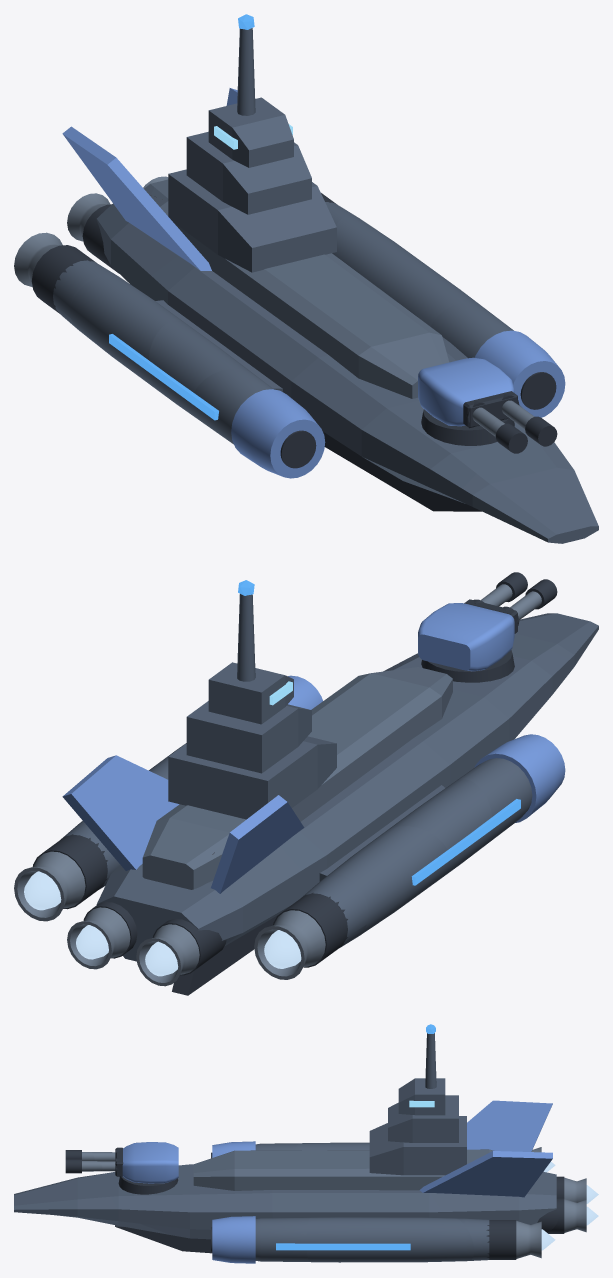
File: horizon_cruiser_wreck.glb
3 renders of one model, top to bottom at view 1: azimuth 30°, elevation 25°; view 2: azimuth 150°, elevation 25°; view 3: azimuth 270°, elevation 25°, orthographic. The views are drawn at different scales.
Parts seen in each view (by area): view 1: horizon_cruiser_wreck_08, horizon_cruiser_wreck_02, horizon_cruiser_wreck_12, horizon_cruiser_wreck_13, horizon_cruiser_wreck_01, horizon_cruiser_wreck_05, horizon_cruiser_wreck_03, horizon_cruiser_wreck_11, horizon_cruiser_wreck_04, horizon_cruiser_wreck_07, horizon_cruiser_wreck_06, horizon_cruiser_wreck_10 (+2 smaller); view 2: horizon_cruiser_wreck_00, horizon_cruiser_wreck_01, horizon_cruiser_wreck_10, horizon_cruiser_wreck_02, horizon_cruiser_wreck_08, horizon_cruiser_wreck_13, horizon_cruiser_wreck_12, horizon_cruiser_wreck_11, horizon_cruiser_wreck_03, horizon_cruiser_wreck_06, horizon_cruiser_wreck_05, horizon_cruiser_wreck_04; view 3: horizon_cruiser_wreck_00, horizon_cruiser_wreck_07, horizon_cruiser_wreck_04, horizon_cruiser_wreck_08, horizon_cruiser_wreck_02, horizon_cruiser_wreck_12, horizon_cruiser_wreck_05, horizon_cruiser_wreck_01, horizon_cruiser_wreck_10, horizon_cruiser_wreck_06, horizon_cruiser_wreck_03, horizon_cruiser_wreck_13 (+1 smaller).
Part boxes in pixels (box(x1,y1,x2,y2)): horizon_cruiser_wreck_08: box(163, 130, 379, 301); horizon_cruiser_wreck_02: box(349, 357, 534, 511); horizon_cruiser_wreck_12: box(288, 287, 448, 503); horizon_cruiser_wreck_13: box(145, 291, 329, 419); horizon_cruiser_wreck_01: box(14, 126, 183, 329); horizon_cruiser_wreck_05: box(461, 409, 598, 543); horizon_cruiser_wreck_03: box(188, 368, 325, 478); horizon_cruiser_wreck_11: box(70, 226, 212, 390); horizon_cruiser_wreck_04: box(430, 303, 565, 417); horizon_cruiser_wreck_07: box(332, 214, 483, 326); horizon_cruiser_wreck_06: box(197, 14, 292, 134); horizon_cruiser_wreck_10: box(67, 176, 168, 273); horizon_cruiser_wreck_00: box(14, 728, 252, 977); horizon_cruiser_wreck_01: box(210, 795, 368, 979); horizon_cruiser_wreck_10: box(67, 857, 235, 995); horizon_cruiser_wreck_02: box(401, 595, 568, 746); horizon_cruiser_wreck_08: box(192, 676, 354, 829); horizon_cruiser_wreck_13: box(341, 726, 495, 876); horizon_cruiser_wreck_12: box(311, 667, 499, 775); horizon_cruiser_wreck_11: box(265, 817, 452, 935); horizon_cruiser_wreck_03: box(433, 734, 565, 846); horizon_cruiser_wreck_06: box(186, 580, 286, 732); horizon_cruiser_wreck_05: box(486, 572, 598, 674); horizon_cruiser_wreck_04: box(288, 660, 404, 709); horizon_cruiser_wreck_00: box(425, 1126, 558, 1260); horizon_cruiser_wreck_07: box(306, 1182, 473, 1262); horizon_cruiser_wreck_04: box(139, 1188, 312, 1263); horizon_cruiser_wreck_08: box(312, 1081, 466, 1195); horizon_cruiser_wreck_02: box(89, 1142, 199, 1251); horizon_cruiser_wreck_12: box(196, 1150, 318, 1245); horizon_cruiser_wreck_05: box(14, 1150, 119, 1224); horizon_cruiser_wreck_01: box(467, 1100, 555, 1172); horizon_cruiser_wreck_10: box(534, 1171, 598, 1233); horizon_cruiser_wreck_06: box(405, 1024, 458, 1126); horizon_cruiser_wreck_03: box(211, 1141, 298, 1158); horizon_cruiser_wreck_13: box(295, 1142, 369, 1156).
Bounding box in the file's own units: 3.01 × 3.47 × 7.81.
